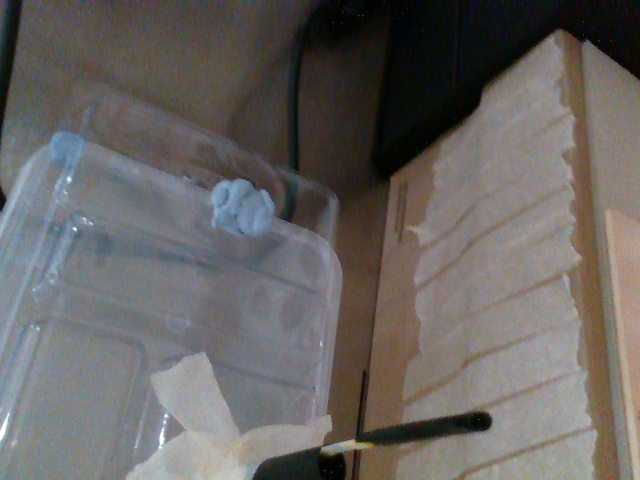test_strip: (318, 408, 490, 455)
